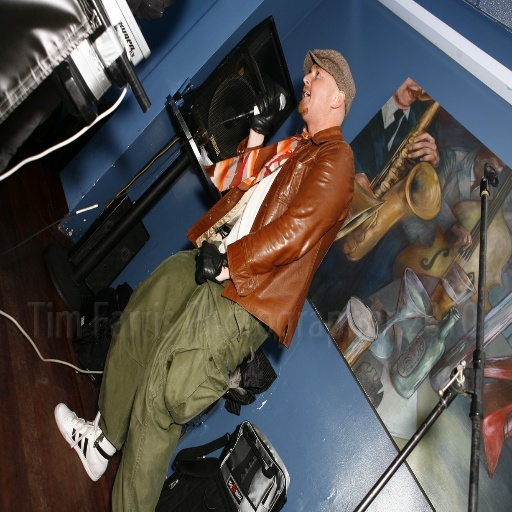hand: (195, 237, 221, 286), (249, 86, 275, 129), (405, 131, 439, 161), (450, 222, 472, 251), (355, 171, 376, 199)
